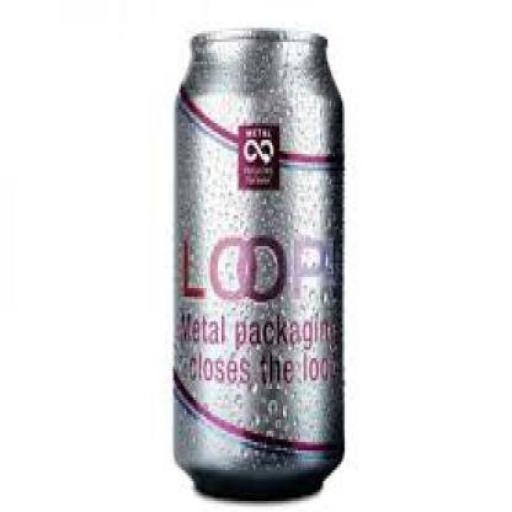metal: (172, 28, 342, 498)
